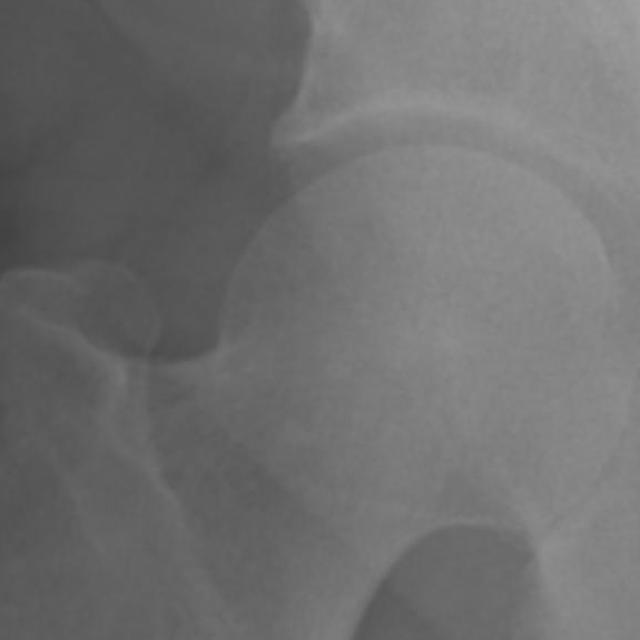Fitted_femural_head: (409, 146, 432, 409)
